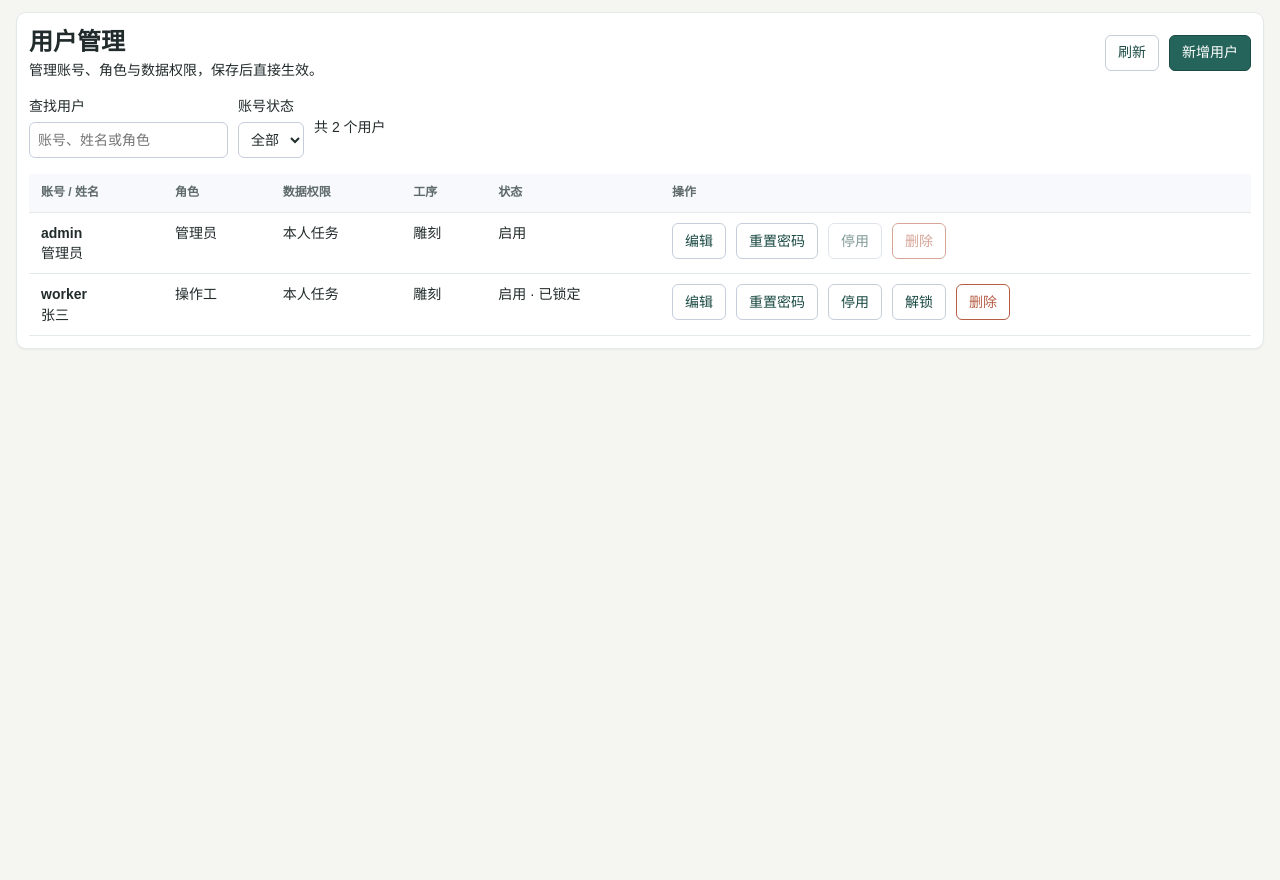
Test: 用户管理 › 新增账号按后端规则忽略大小写，避免覆盖已有用户
Click the button "新增用户".
click(1210, 52)  # box top-left (1169, 34), bottom-right (1251, 70)
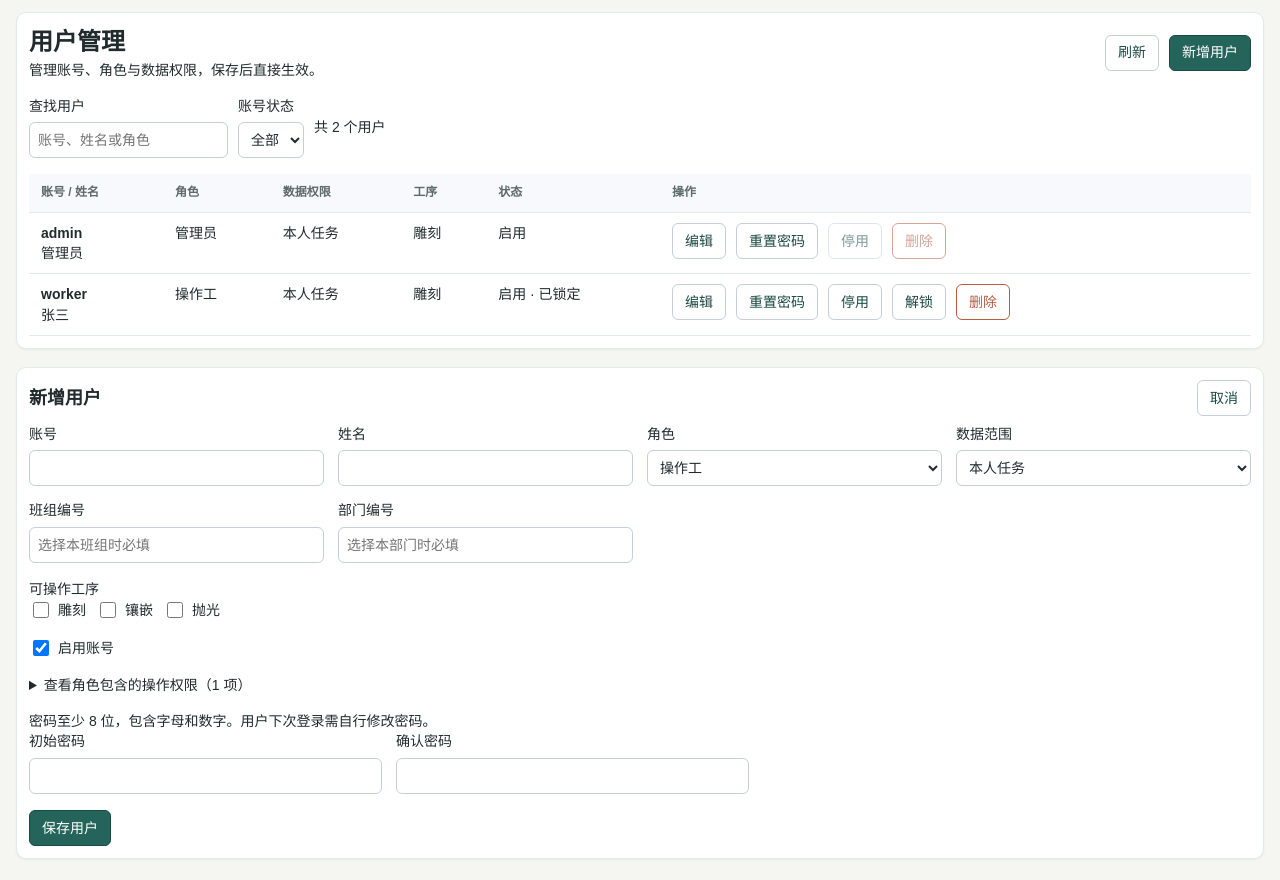
Type " WORKER " into the field named "用户账号".
click(176, 468); type(" WORKER ")  # box top-left (29, 450), bottom-right (324, 486)
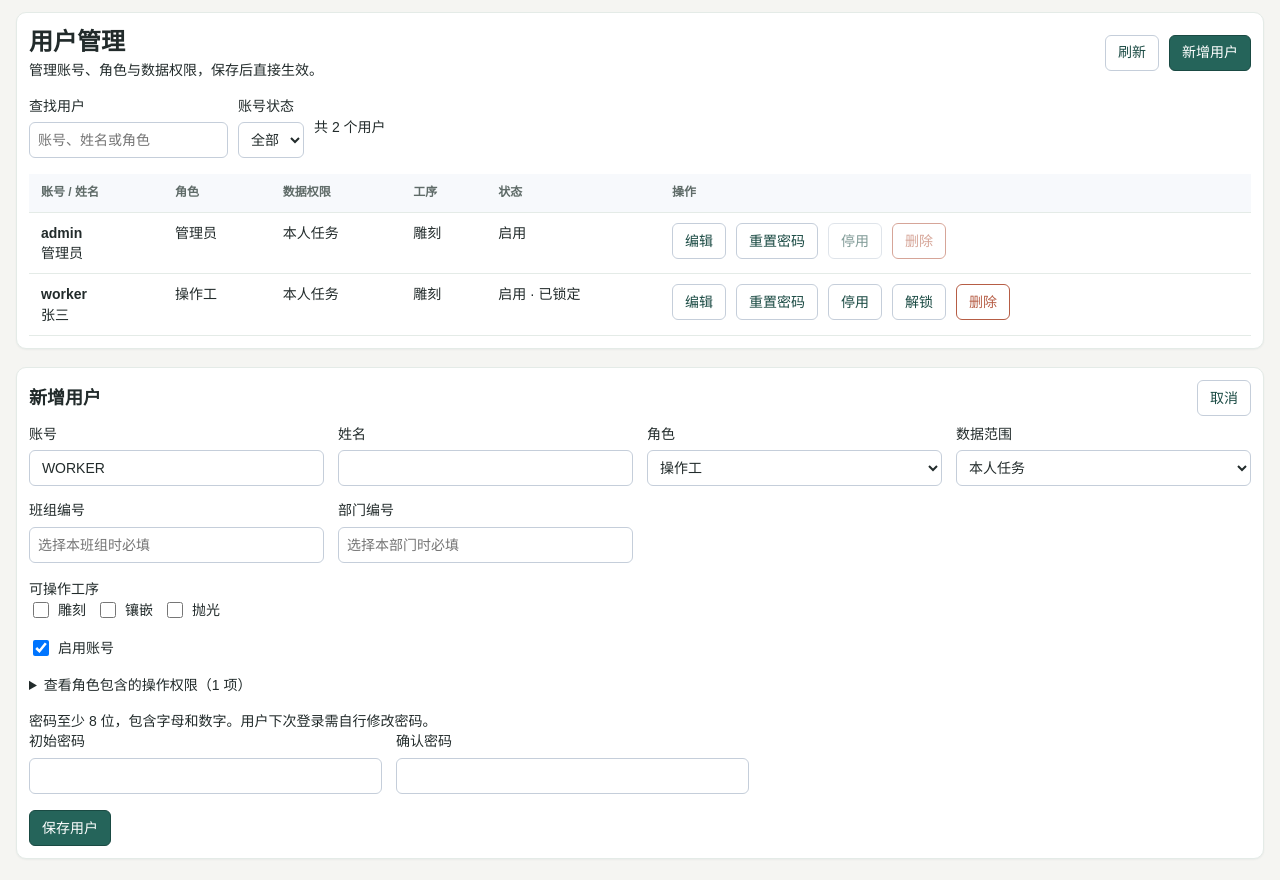
Type "另一人" into the field named "用户姓名".
click(486, 468); type("另一人")  # box top-left (338, 450), bottom-right (633, 486)
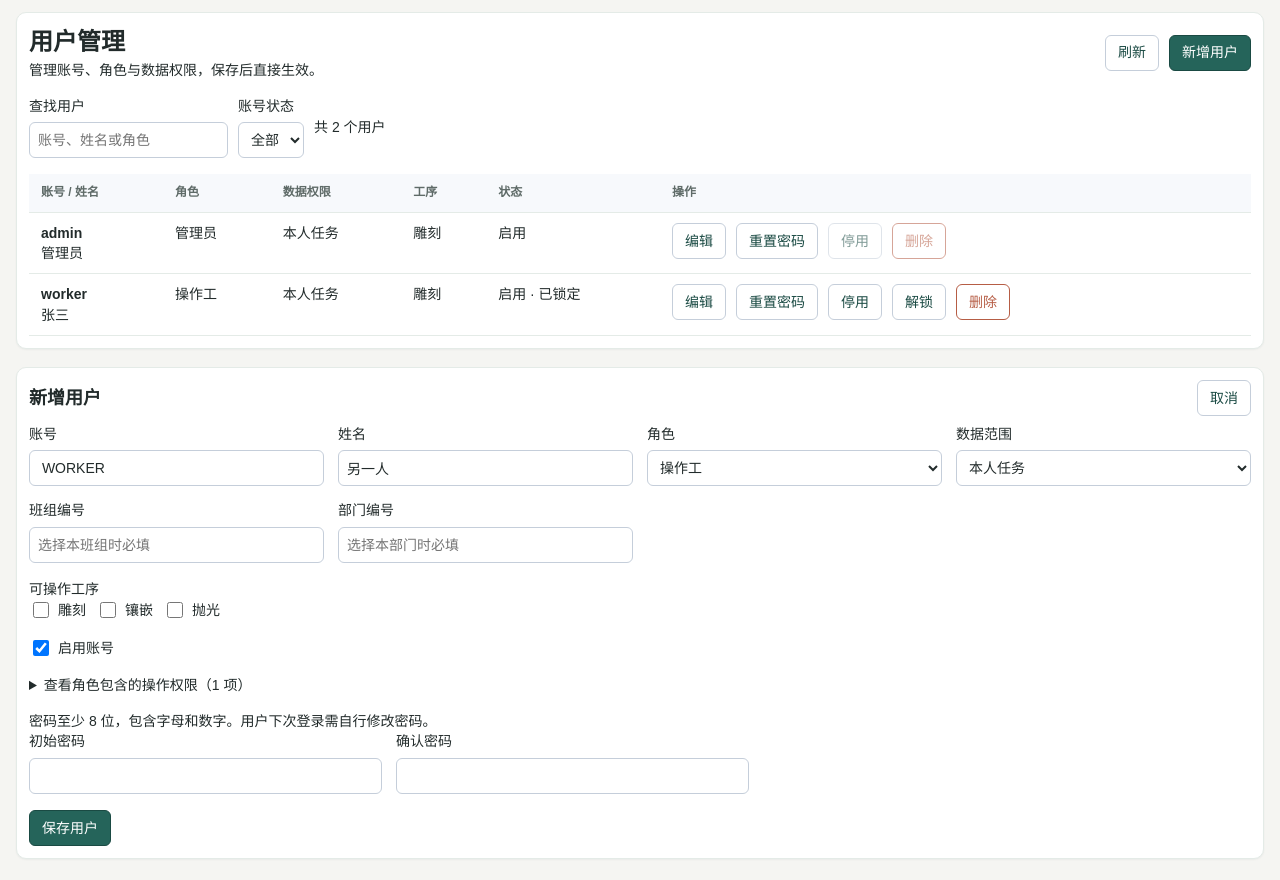
Type "TemporaryPass2026" into the password field named "用户密码".
click(206, 776); type("TemporaryPass2026")  # box top-left (29, 758), bottom-right (382, 794)
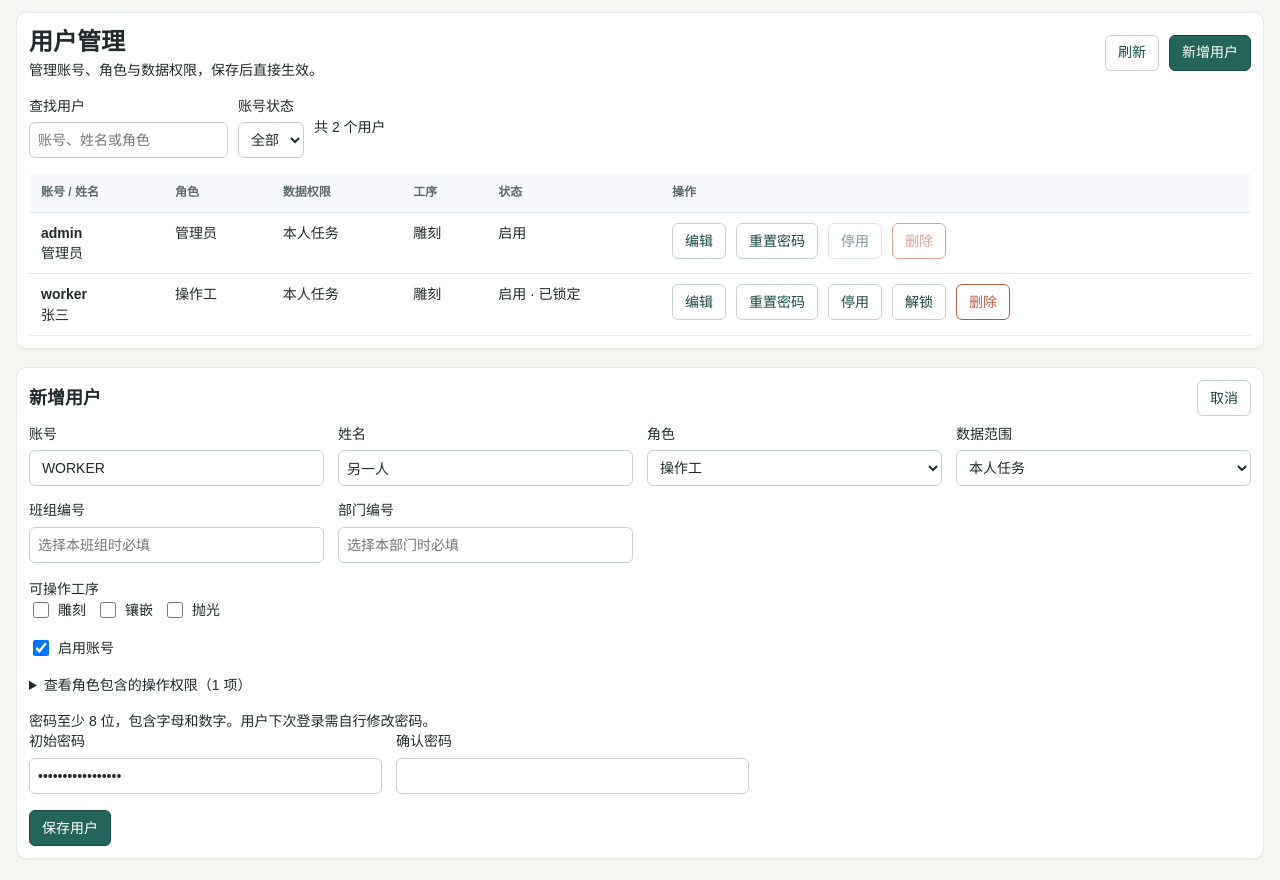
Type "TemporaryPass2026" into the password field named "确认用户密码".
click(572, 776); type("TemporaryPass2026")  # box top-left (396, 758), bottom-right (749, 794)
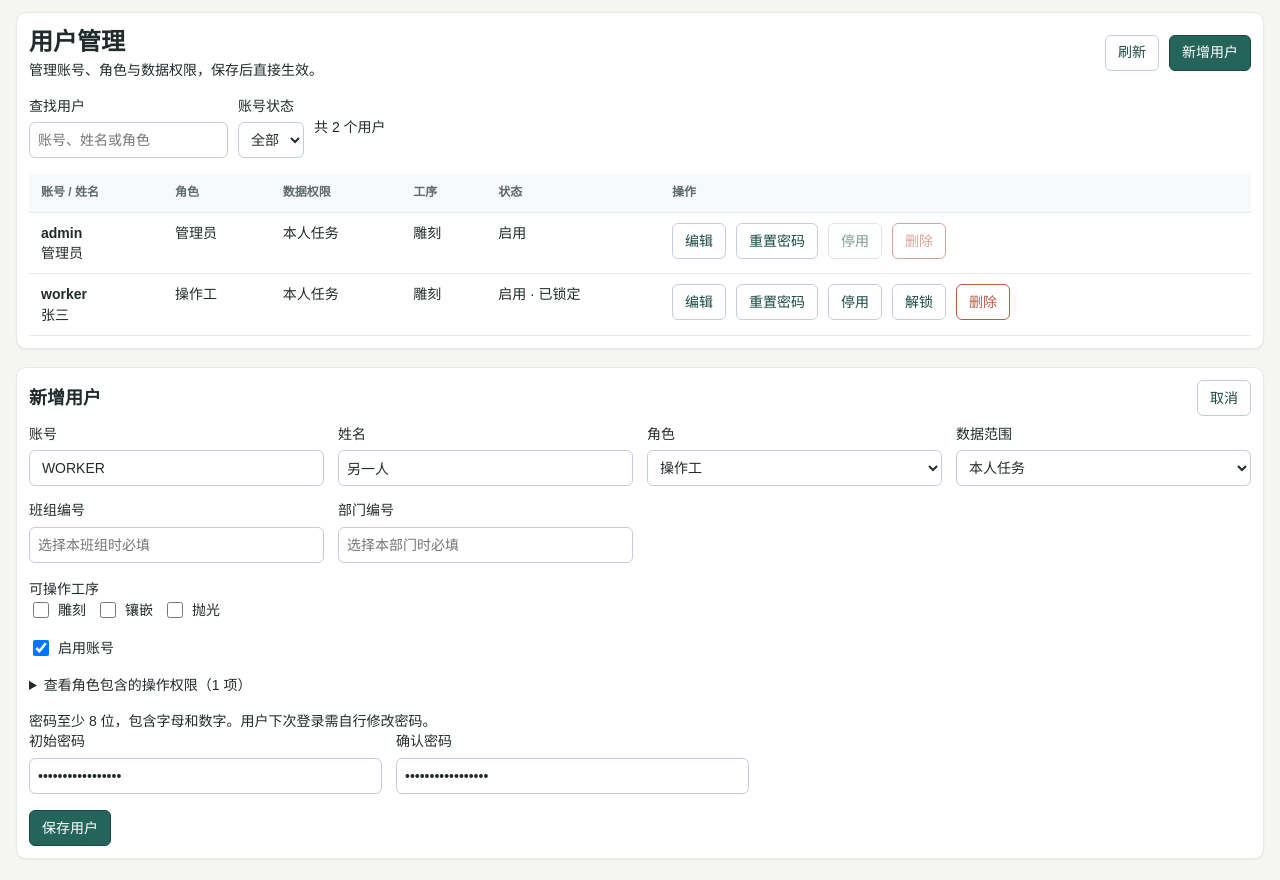
Submit the form, box top-left (29, 424), bottom-right (1251, 846)
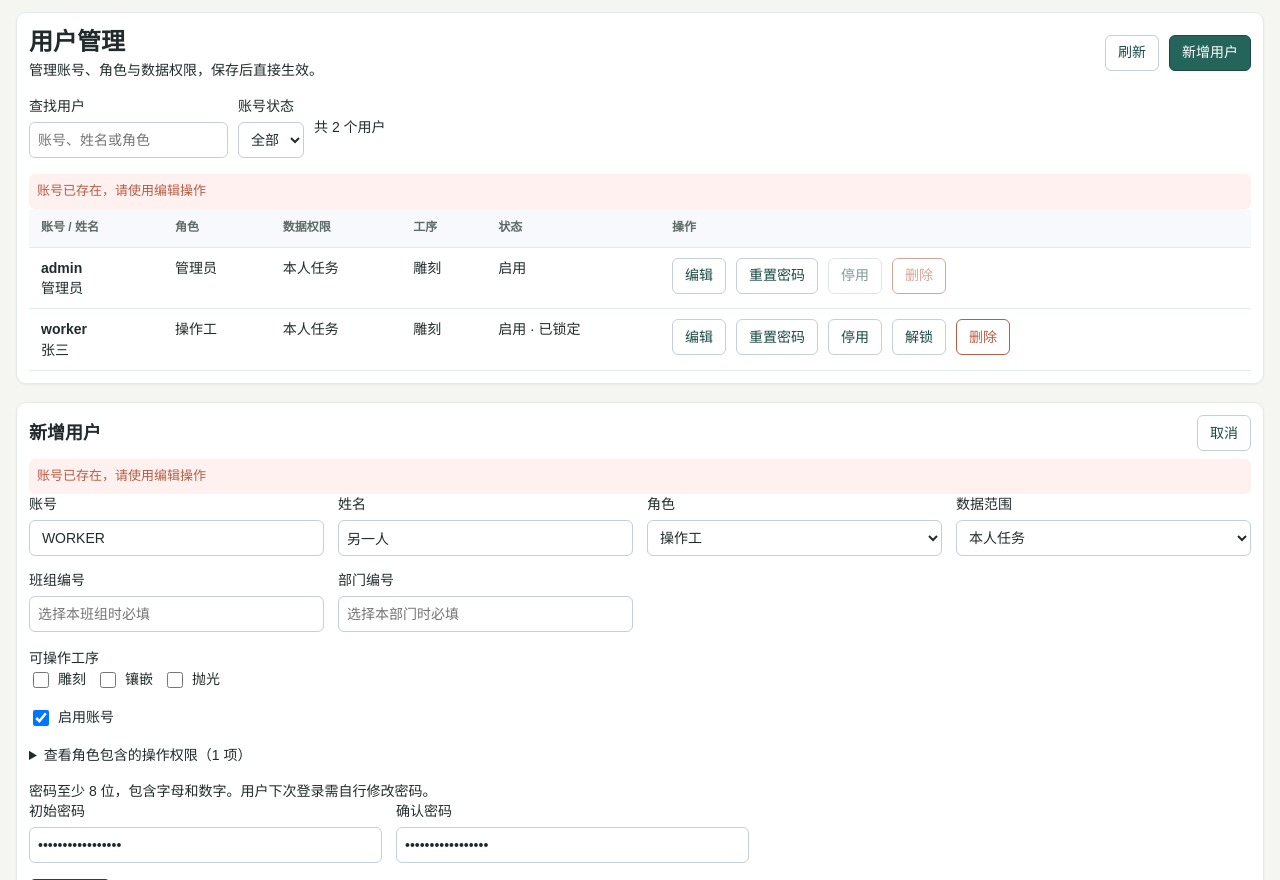
Result: the text "账号已存在" is shown at top-left (37, 183), bottom-right (206, 198)
